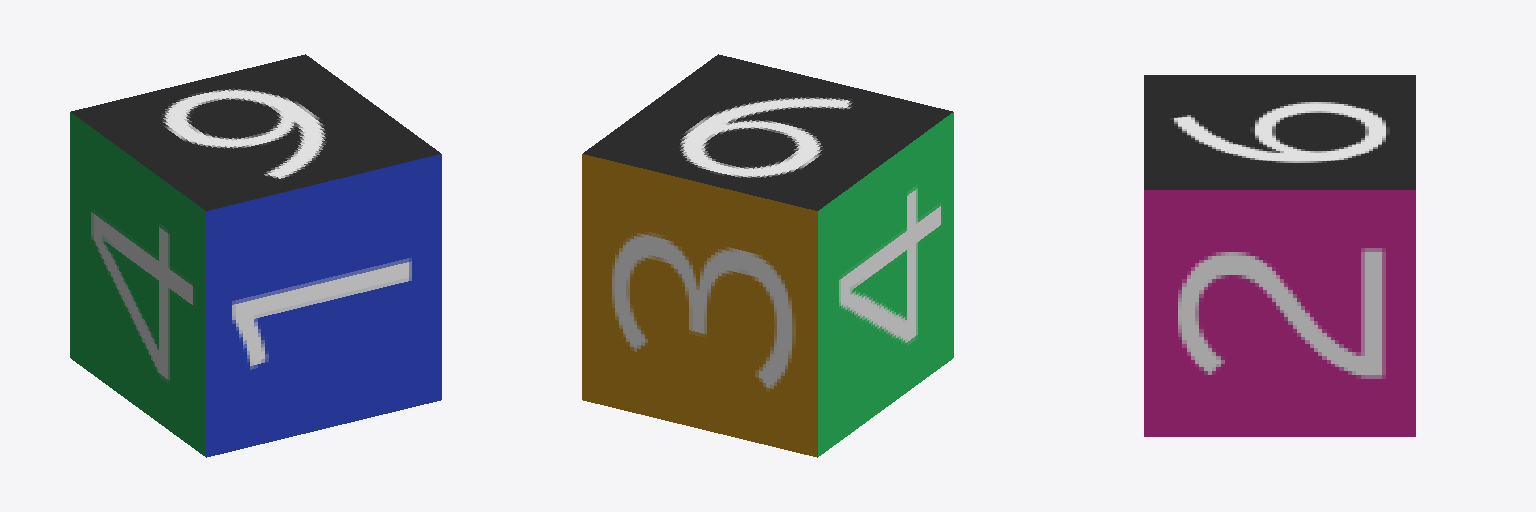
3 views of the same model, side by side, from view 1: azimuth 30°, elevation 25°; view 2: azimuth 150°, elevation 25°; view 3: azimuth 270°, elevation 25° (orthographic).
Visible parts, largest first — view 1: Cube; view 2: Cube; view 3: Cube.
Part boxes in pixels (x1,y1,x2,y2): Cube: (70, 54, 441, 457); Cube: (582, 54, 953, 457); Cube: (1144, 75, 1415, 436).
Size of the model in its own units: 2 by 2 by 2.
Materials: 1 (1 with a texture image).